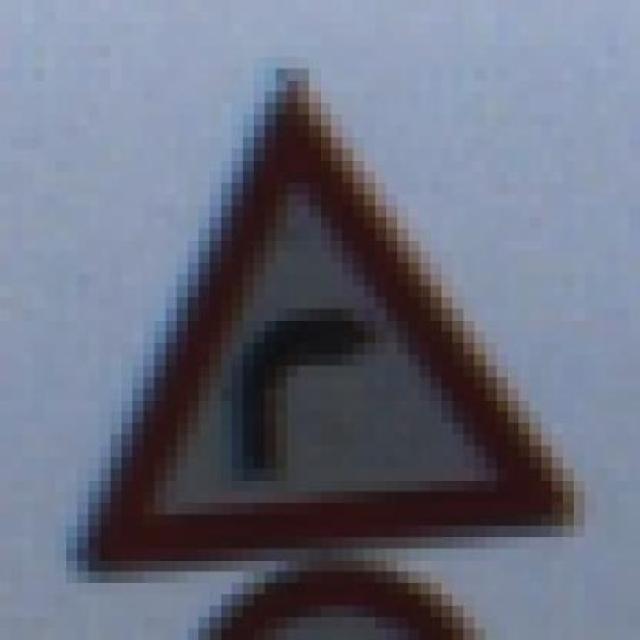Dangerous Rright Curve Ahead: (44, 57, 618, 583)
